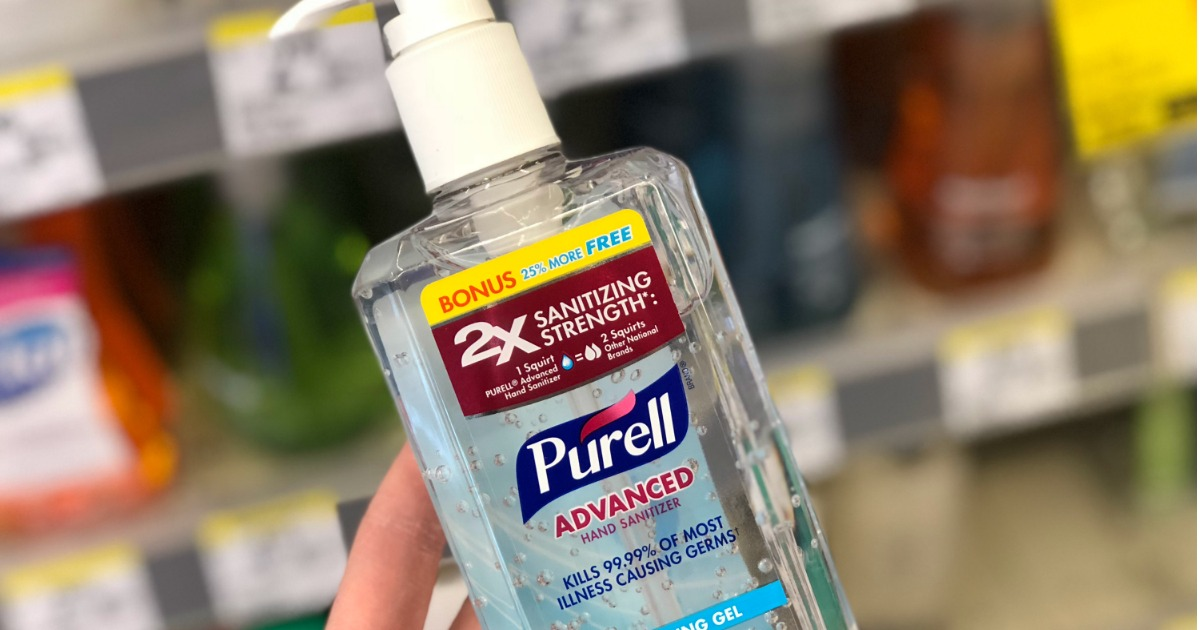Sanitizer: (266, 1, 863, 630)
